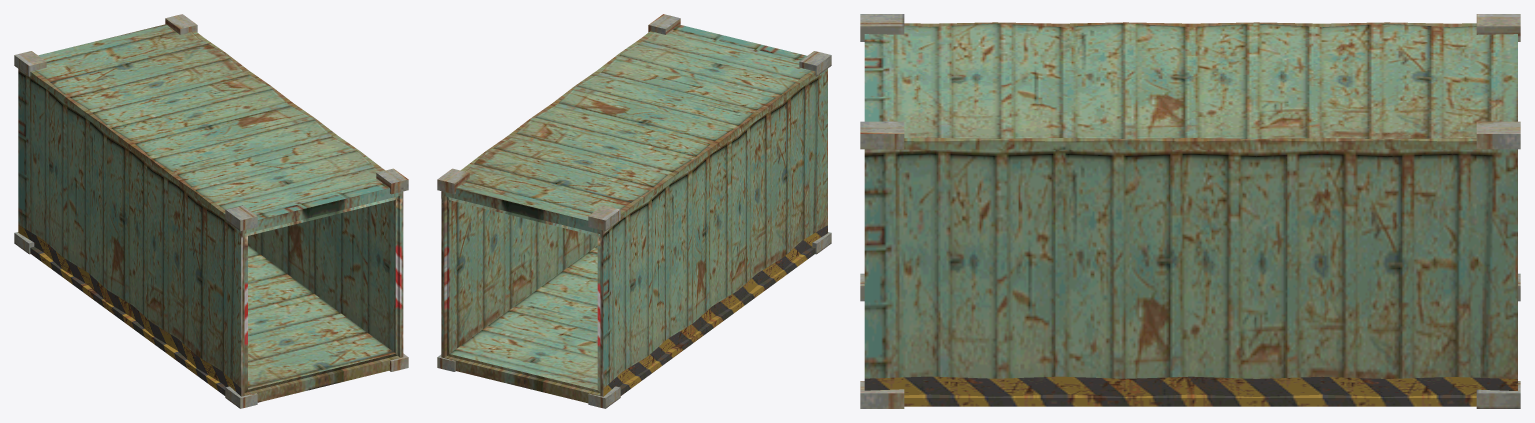
File: ContainerOpen5_SM.fbx
3 renders of one model, left to right at view 1: azimuth 30°, elevation 25°; view 2: azimuth 150°, elevation 25°; view 3: azimuth 270°, elevation 25°, orthographic. The views are drawn at different scales.
Parts seen in each view (by area): view 1: Box009; view 2: Box009; view 3: Box009.
Boxes of the visible parts, x1,y1,x2,y2 form: Box009: (14, 14, 408, 408); Box009: (437, 14, 831, 408); Box009: (860, 14, 1520, 408).
Bounding box in the file's own units: 238 × 255 × 554.
